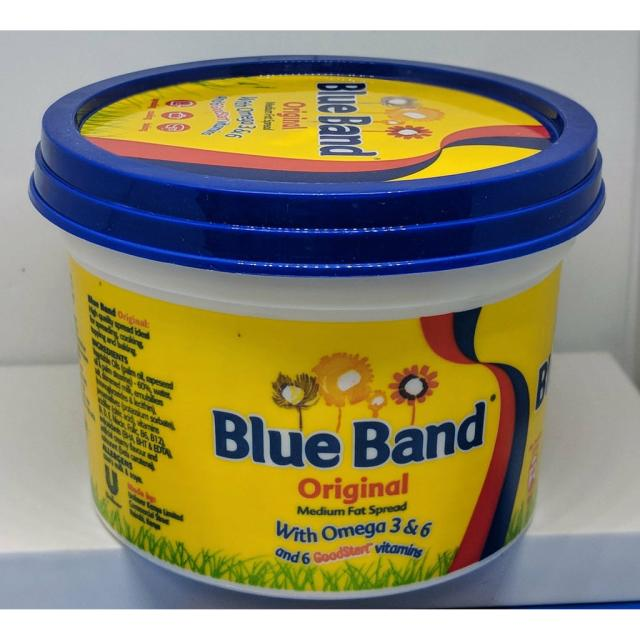butter: (27, 54, 606, 596)
